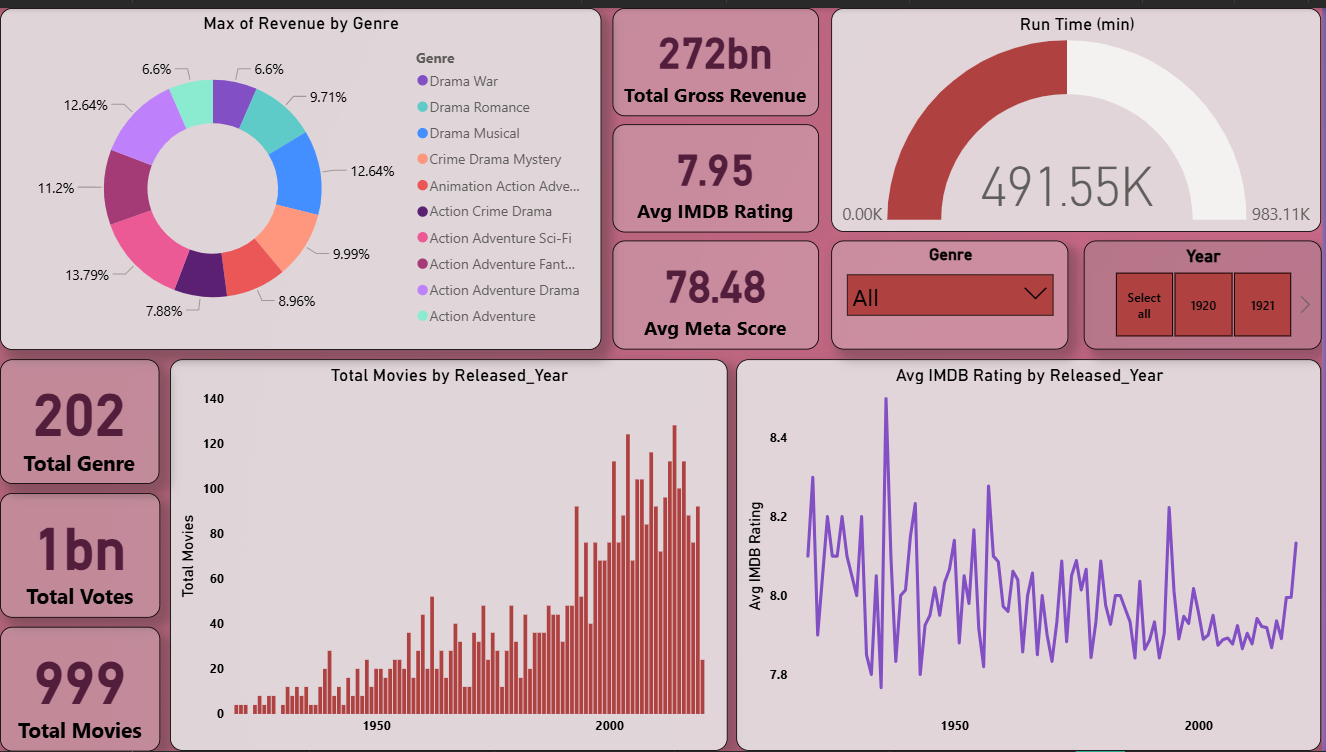

This screenshot's page, from the dashboard's own definition file:
{"tool":"powerbi","page":{"name":"MOVIE OVERVIEW","canvas":[1280,720],"ordinal":0},"visuals":[{"type":"card","fields":{"Values":["imdb_.Total Gross Revenue"]},"box":[593.1,0,199.7,105],"z":0},{"type":"card","fields":{"Values":["Sum(imdb_.No_of_Votes)"]},"box":[0,470,154.9,121],"z":1000},{"type":"card","fields":{"Values":["imdb_.Avg IMDB Rating"]},"box":[593.1,112.6,199.7,105],"z":2000},{"type":"card","fields":{"Values":["Count(imdb_.Series_Title)"]},"box":[0,599.2,154.9,121],"z":3000},{"type":"card","fields":{"Values":["imdb_.Avg Meta Score"]},"box":[593.1,225.2,199.7,105.3],"z":4000},{"type":"clusteredColumnChart","fields":{"Category":["imdb_.Released_Year"],"Y":["imdb_.Total Movies"]},"box":[164.6,340.1,539.9,378.9],"z":5000},{"type":"lineChart","fields":{"Category":["imdb_.Released_Year"],"Y":["imdb_.Avg IMDB Rating"]},"box":[713,340.1,566.5,378.9],"z":6000},{"type":"gauge","fields":{"Y":["Sum(imdb_.RunTime min)"]},"box":[805,0,474.5,216.7],"z":7000},{"type":"donutChart","title":"Max of Revenue by Genre","fields":{"Y":["Max(imdb_.Gross)"],"Category":["imdb_.Genre"]},"box":[0,0,582,331],"z":8000},{"type":"card","fields":{"Values":["Count(imdb_.Genre)"]},"box":[0,340,154,121],"z":9000},{"type":"slicer","title":"Genre","fields":{"Values":["imdb_.Genre"]},"box":[805,225.2,230,105.3],"z":10000},{"type":"slicer","title":"Year","fields":{"Values":["imdb_.Released_Year"]},"box":[1049.5,225.2,230,105.3],"z":11000}]}

Visuals, with their boxes in screenshot pixels (x1, y1, x2, y2), scaled from the page's 1280x720 canvas onto the 1326x752 screenshot:
card - imdb_.Total Gross Revenue: region(614, 0, 821, 110)
card - Sum(imdb_.No_of_Votes): region(0, 491, 160, 617)
card - imdb_.Avg IMDB Rating: region(614, 118, 821, 227)
card - Count(imdb_.Series_Title): region(0, 626, 160, 751)
card - imdb_.Avg Meta Score: region(614, 235, 821, 345)
clusteredColumnChart - imdb_.Released_Year x imdb_.Total Movies: region(171, 355, 730, 751)
lineChart - imdb_.Released_Year x imdb_.Avg IMDB Rating: region(739, 355, 1325, 751)
gauge - Sum(imdb_.RunTime min): region(834, 0, 1325, 226)
"Max of Revenue by Genre" donutChart: region(0, 0, 603, 346)
card - Count(imdb_.Genre): region(0, 355, 160, 481)
"Genre" slicer: region(834, 235, 1072, 345)
"Year" slicer: region(1087, 235, 1325, 345)
